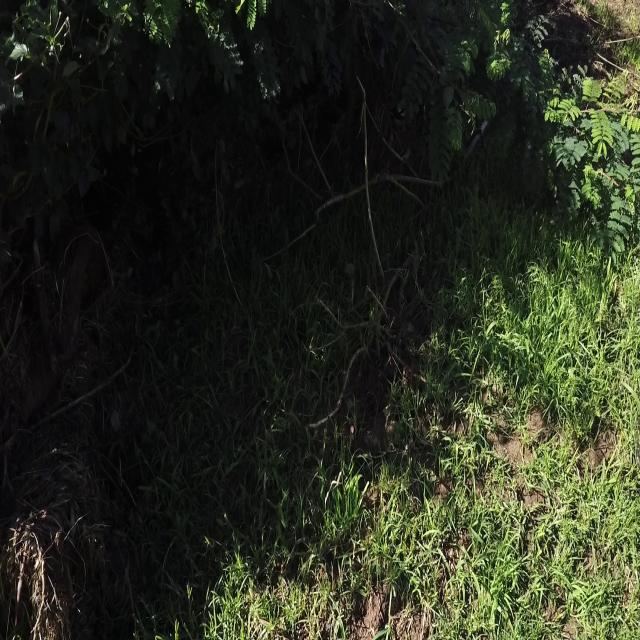Mysore-Thorn-Weed: (424, 0, 640, 248), (101, 0, 294, 121)
